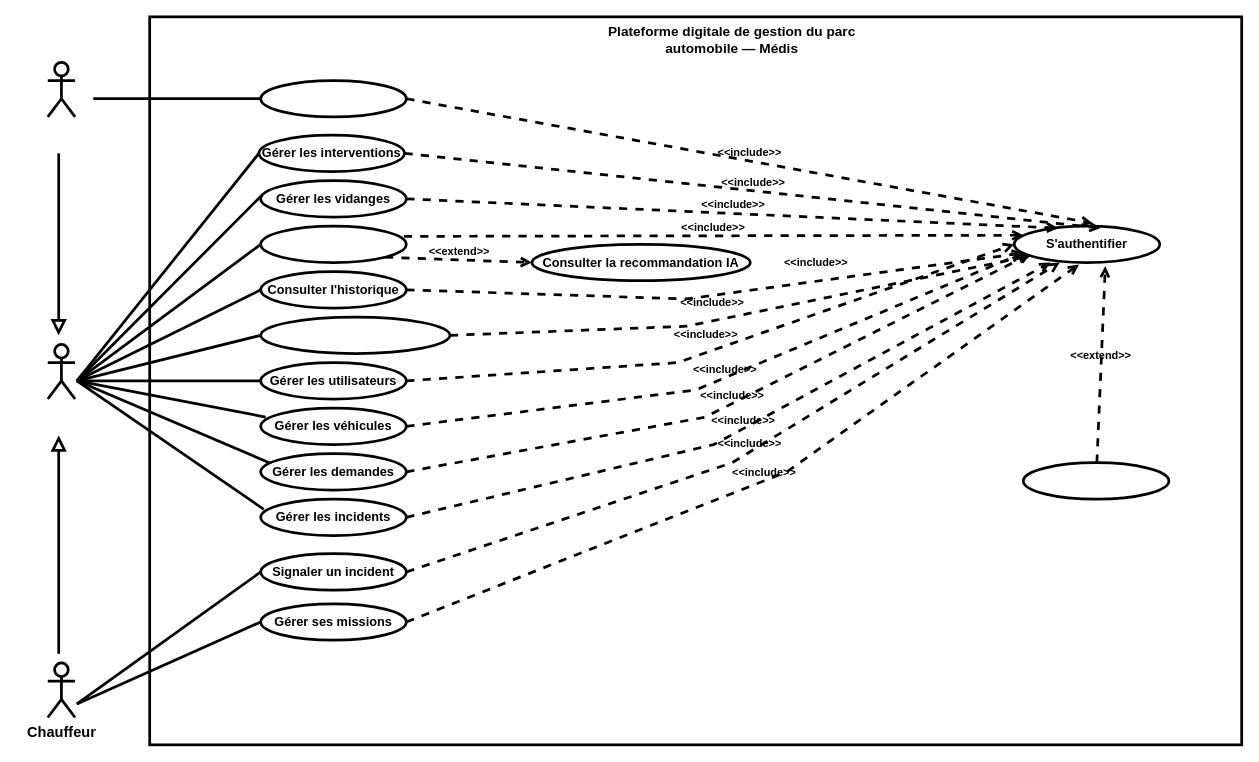
Some shapes in this 1259 by 762 pixel diagram are drawn without their labels. The shapes that lost their labels are listed below. From the top down, each one's centre as x and y in pixels, then its label:
(61,89): Demandeur
(333,98): Gérer ses demandes
(333,243): Gérer les missions
(355,334): Consulter les tableaux de bord BI
(61,371): Responsable
(1095,480): Mot de passe oublié
